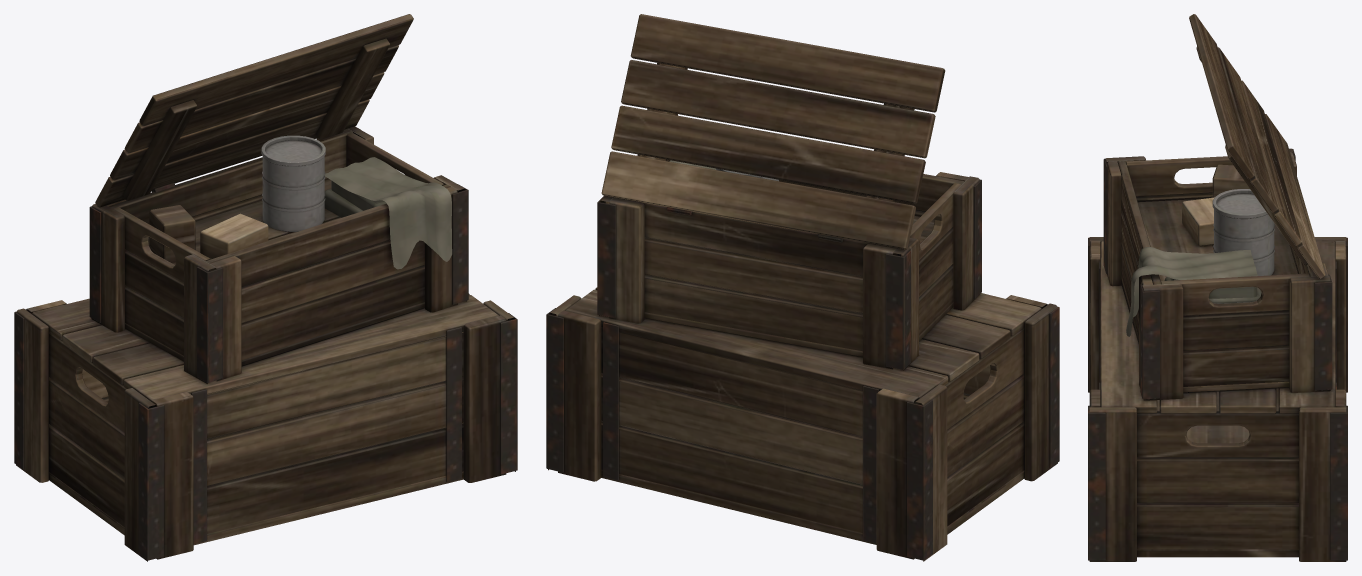
Rendered from crates.glb.
3 renders of one model, left to right at view 1: azimuth 30°, elevation 25°; view 2: azimuth 150°, elevation 25°; view 3: azimuth 270°, elevation 25°, orthographic. The views are drawn at different scales.
Parts seen in each view (by area): view 1: Body, Lid; view 2: Body, Lid; view 3: Body, Lid.
Part boxes in pixels (x1,y1,x2,y2): Body: (14, 126, 517, 561); Lid: (95, 14, 413, 207); Body: (546, 160, 1059, 561); Lid: (601, 14, 945, 249); Body: (1088, 148, 1347, 561); Lid: (1189, 14, 1325, 279).
Bounding box in the file's own units: 0.85 × 0.9039 × 0.53.
1 material, 1 textured.
